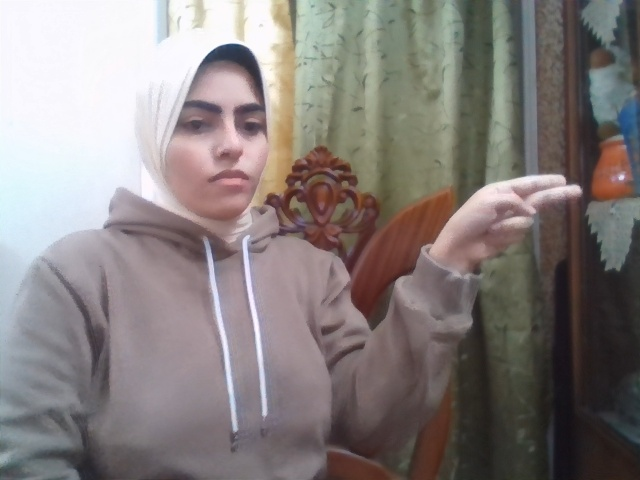H: (429, 173, 583, 266)
